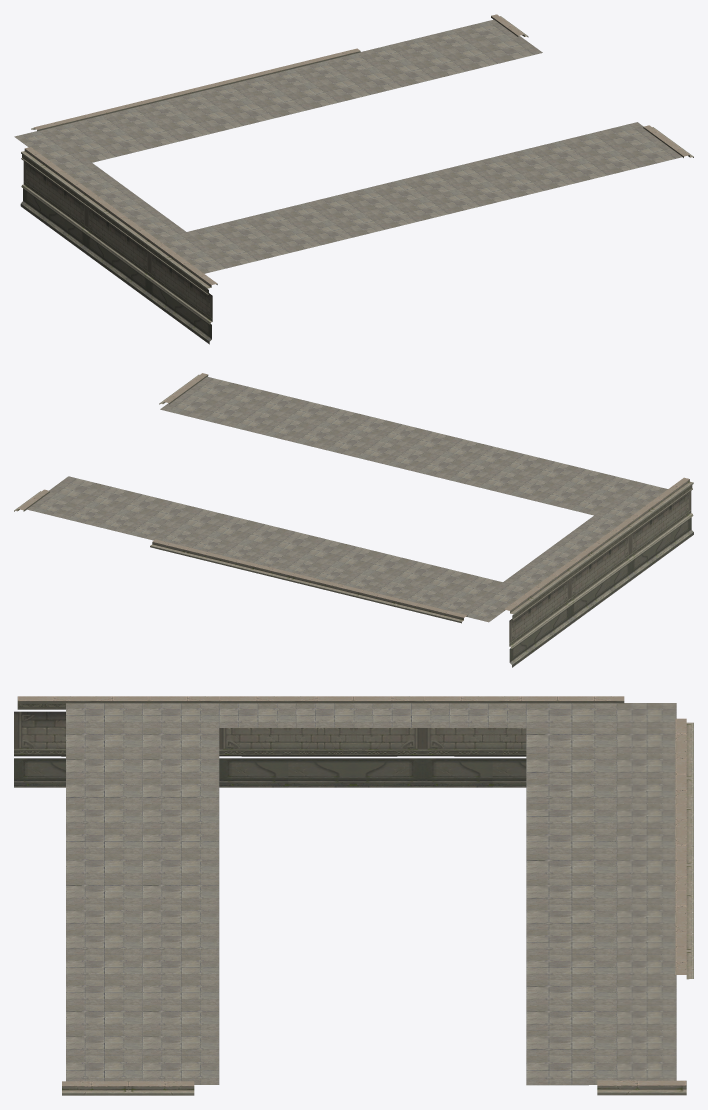
File: WSD_Terrain_04.FBX
3 renders of one model, top to bottom at view 1: azimuth 30°, elevation 25°; view 2: azimuth 150°, elevation 25°; view 3: azimuth 270°, elevation 25°, orthographic. The views are drawn at different scales.
Parts seen in each view (by area): view 1: WSD_Terrain_04; view 2: WSD_Terrain_04; view 3: WSD_Terrain_04.
Part boxes in pixels (<box>): WSD_Terrain_04: <box>14,14,693,344</box>; WSD_Terrain_04: <box>14,373,693,667</box>; WSD_Terrain_04: <box>14,696,693,1095</box>.
Bounding box in the file's own units: 101 × 11.13 × 73.04.
